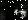person: (19, 6, 28, 18), (14, 9, 19, 17)
